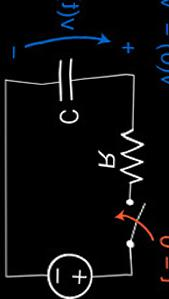Battery: (37, 245, 96, 298)
